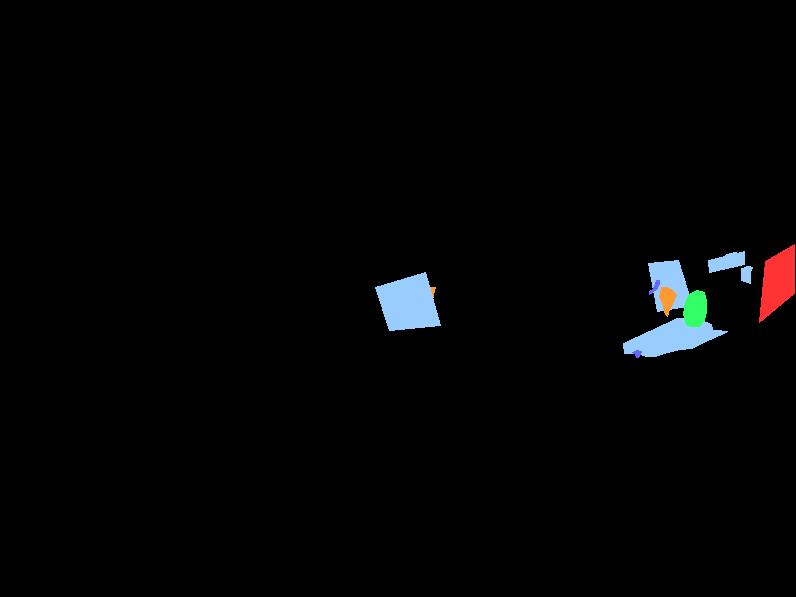Broken part: (683, 290, 706, 326)
Corrosion: (375, 272, 440, 330), (623, 318, 714, 353), (640, 328, 727, 356), (648, 260, 692, 311), (708, 251, 744, 272), (717, 252, 744, 267), (658, 268, 677, 280), (741, 266, 750, 283), (743, 266, 752, 278)
Missing part: (759, 244, 794, 322)
Paint chip: (398, 282, 435, 317), (659, 287, 676, 316)
Scratch: (649, 280, 659, 294), (632, 350, 641, 357)
